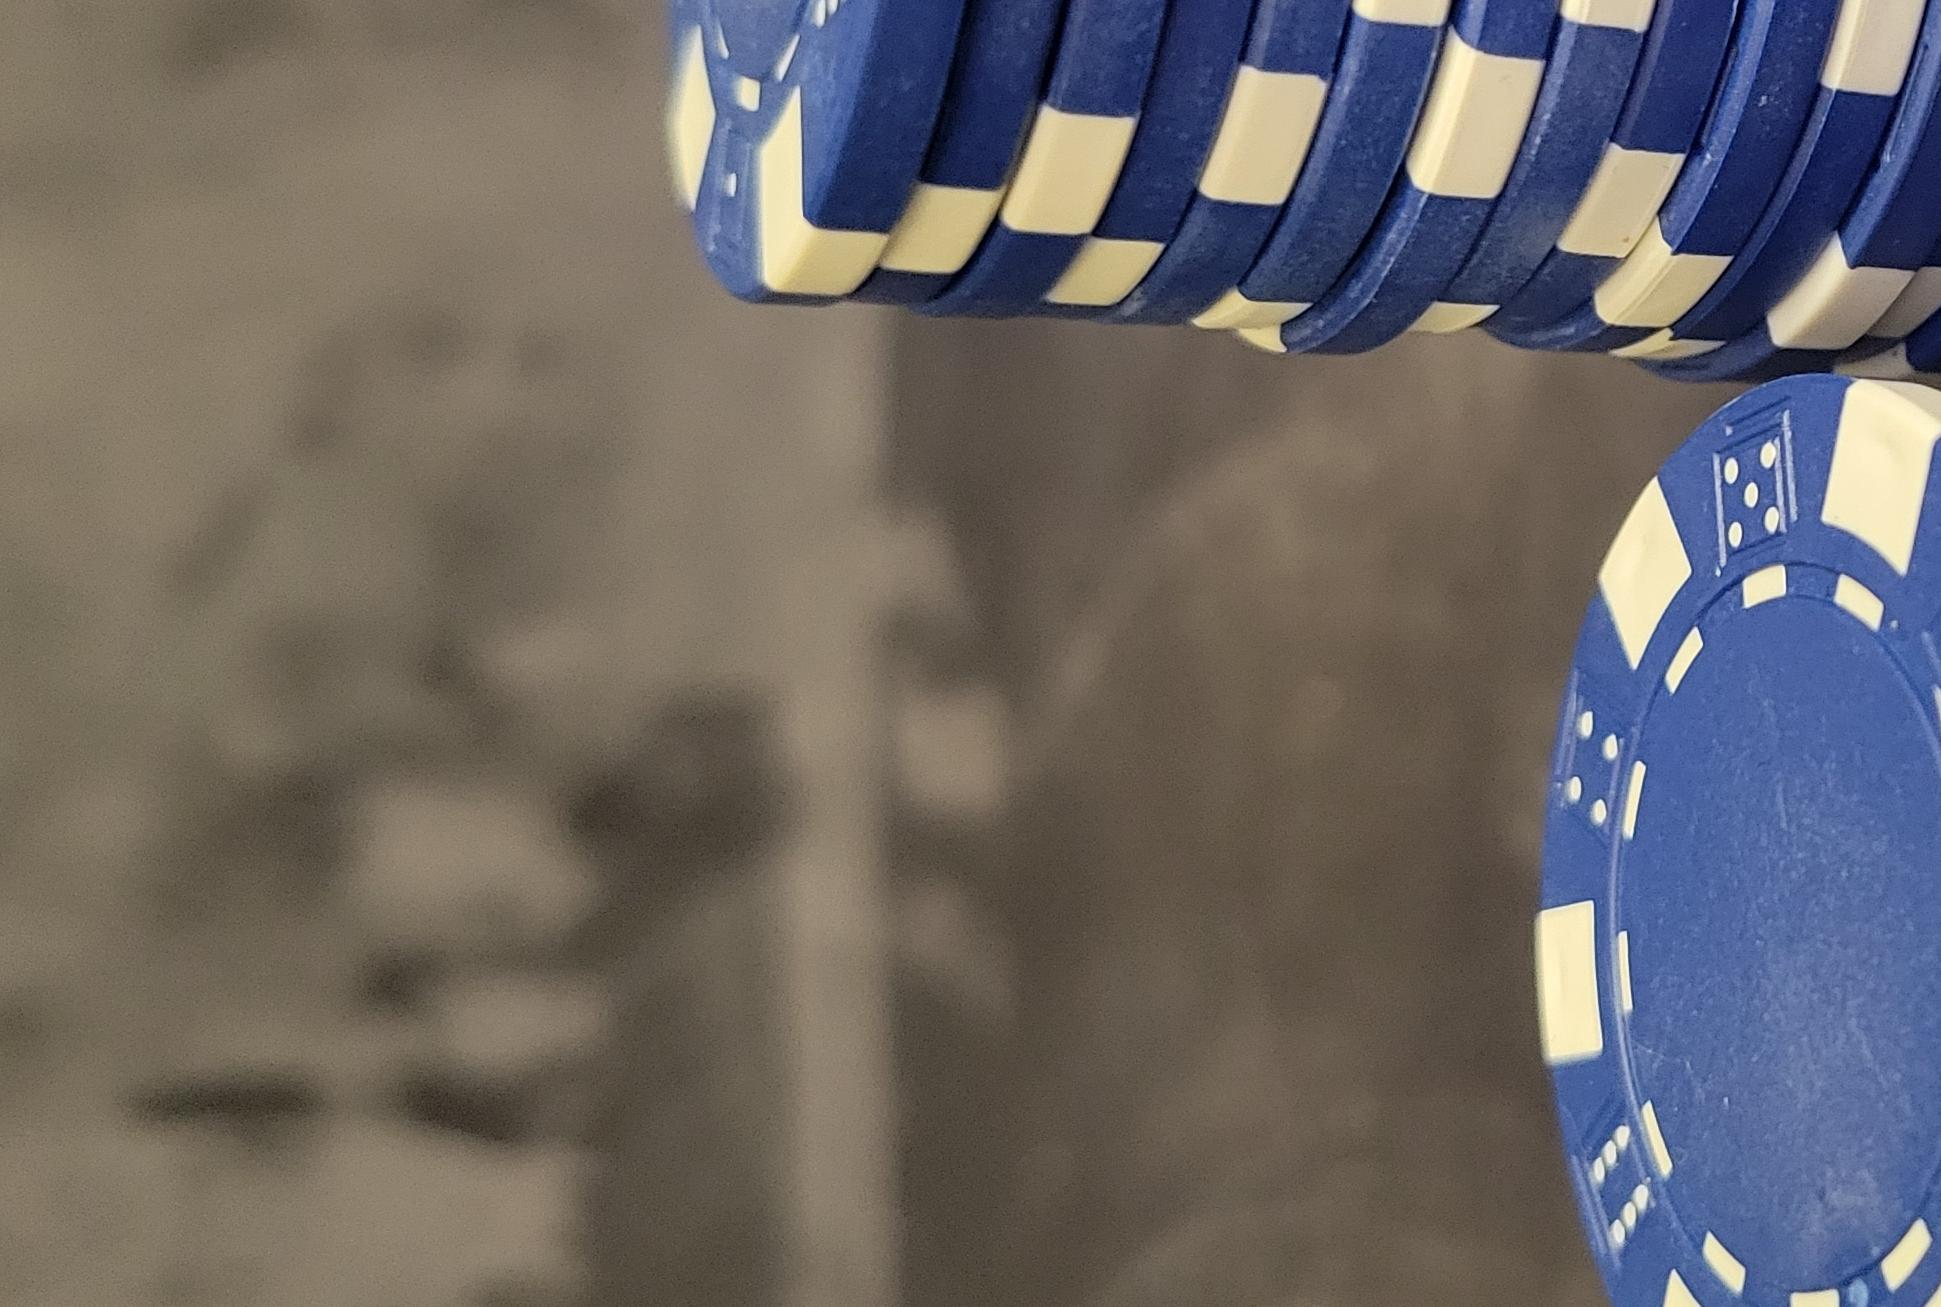Chip: (1, 400, 1420, 1307)
